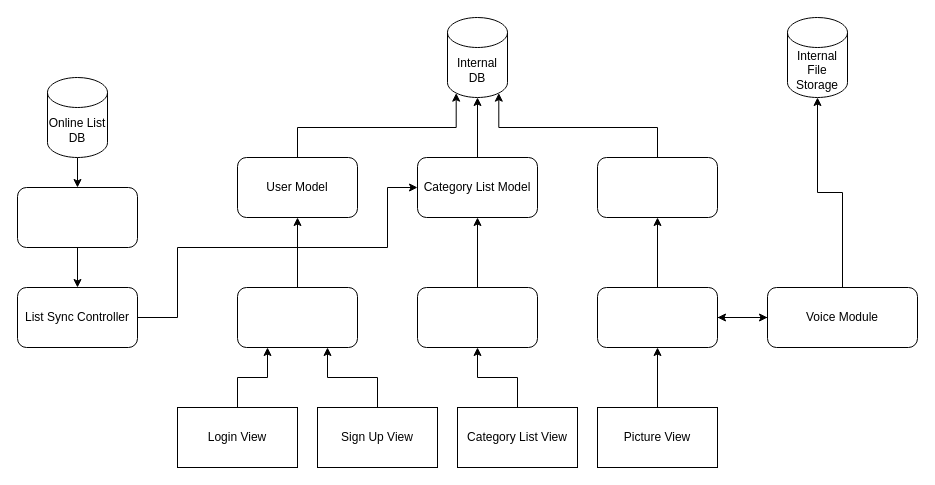
Some shapes in this 935 by 485 pixel diagram are drawn without their labels. Here are the shapes that lost their labels. From the top down, the centre of each, then its label:
the point at 657,187: Picture list Model
the point at 77,217: API
the point at 297,317: Login Controller
the point at 477,317: Category List Controller
the point at 657,317: Picture List Controller
